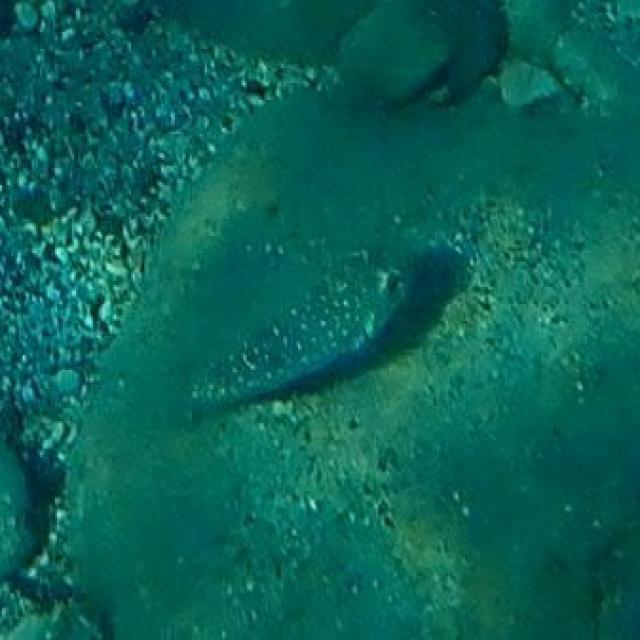Balik: (192, 247, 465, 420)
